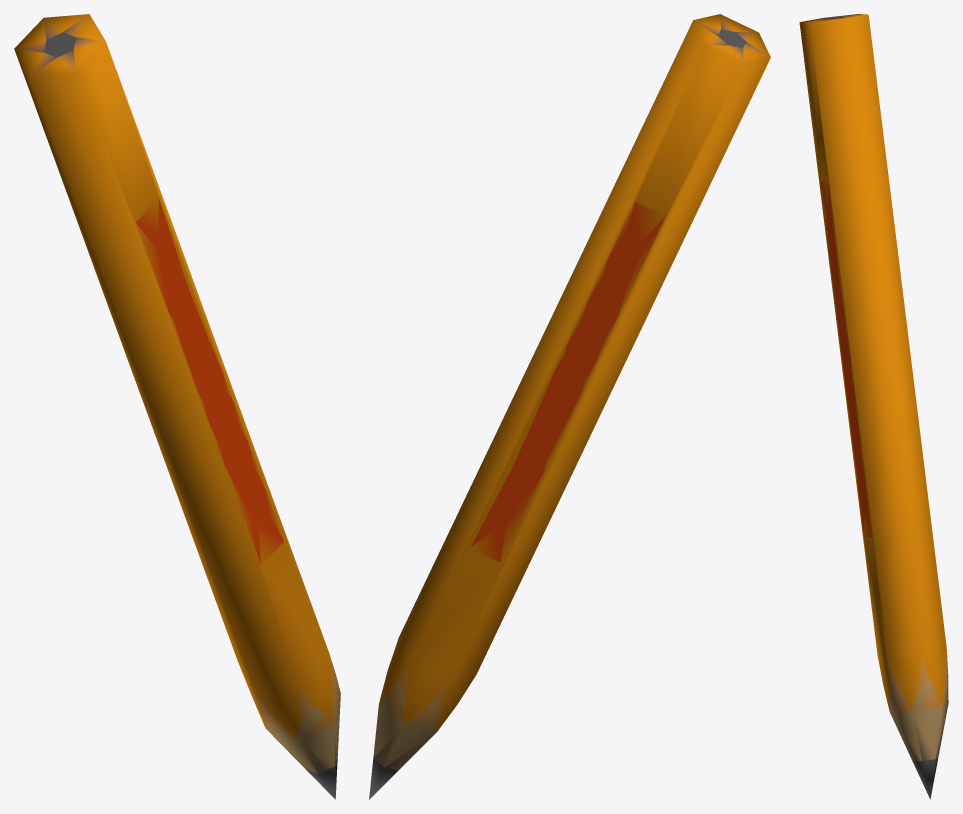
Rendered from Example.fbx.
3 renders of one model, left to right at view 1: azimuth 30°, elevation 25°; view 2: azimuth 150°, elevation 25°; view 3: azimuth 270°, elevation 25°, orthographic. The views are drawn at different scales.
Parts seen in each view (by area): view 1: Pencil; view 2: Pencil; view 3: Pencil.
Part boxes in pixels (<box>): Pencil: <box>14,14,340,799</box>; Pencil: <box>369,14,770,799</box>; Pencil: <box>799,14,948,799</box>.
Size of the model in its own units: 9.04 by 20.68 by 4.17.
